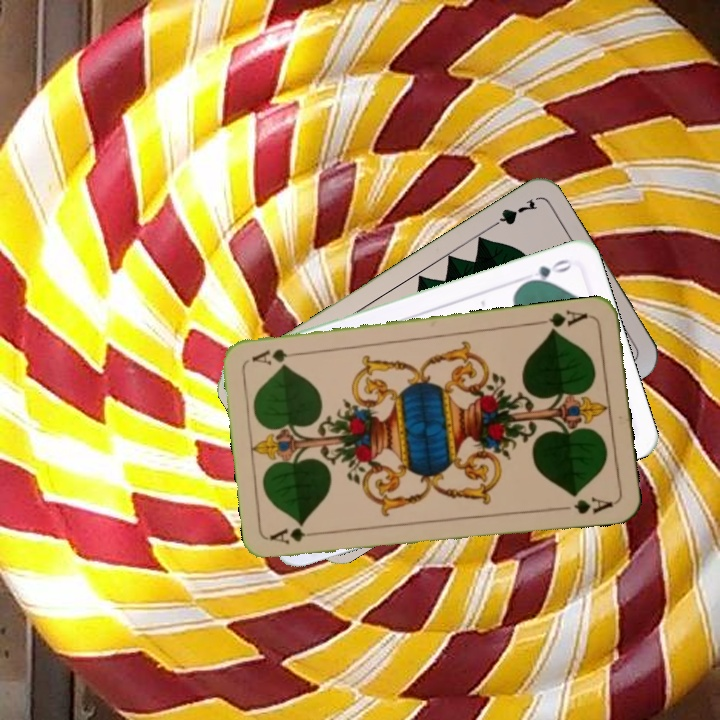G7: (484, 195, 540, 233)
GA: (533, 306, 592, 336), (267, 526, 327, 547)
GO: (519, 255, 575, 287)
